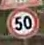limite 50: (6, 6, 39, 39)
